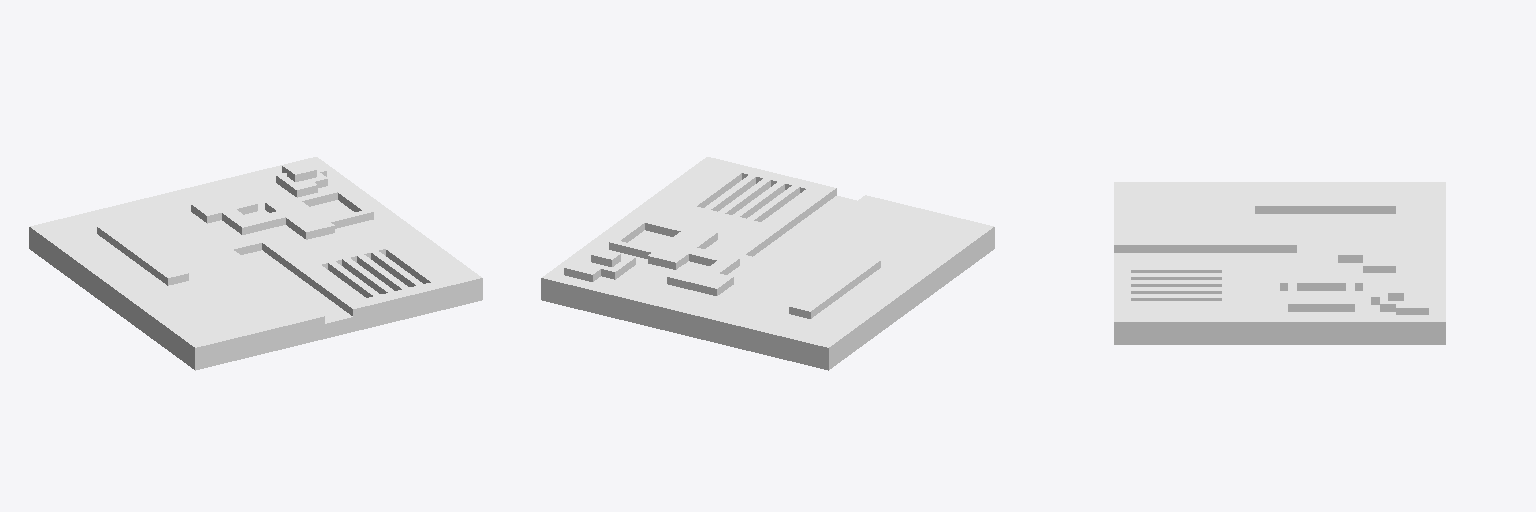
3 views of the same model, side by side, from view 1: azimuth 30°, elevation 25°; view 2: azimuth 150°, elevation 25°; view 3: azimuth 270°, elevation 25° (orthographic).
Parts seen in each view (by area): view 1: test_face; view 2: test_face; view 3: test_face.
Boxes of the visible parts, box(x1,y1,x2,y2) form: test_face: box(29, 157, 482, 370); test_face: box(541, 157, 994, 370); test_face: box(1114, 182, 1445, 344).
Size of the model in its own units: 40 by 5 by 40.